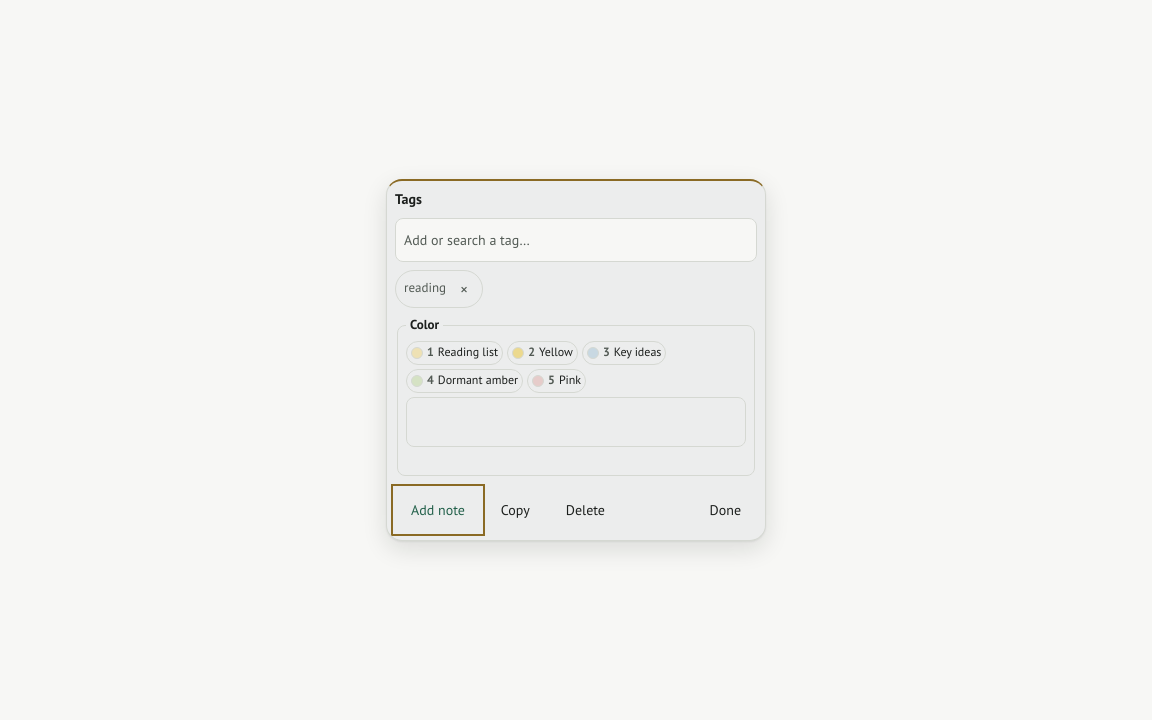
Test: annotation panel slot pills (issue #222) › a failed apply surfaces the inline 'Couldn't apply slot.' — never a success word
The image size is (1152, 720).
Click the button with aria-label "Apply slot 2: Yellow". click: point(543, 353)
box: [507,341,578,365]
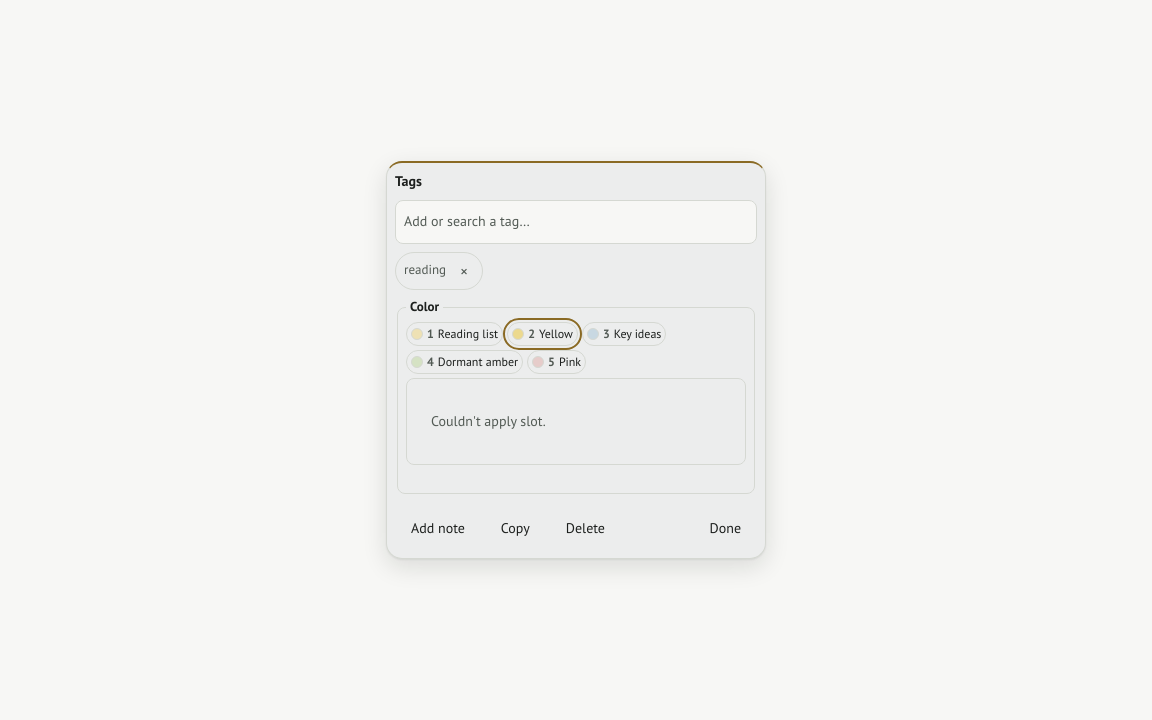
expect the text "Couldn't apply slot." is shown: met, box [431,412,546,430]
